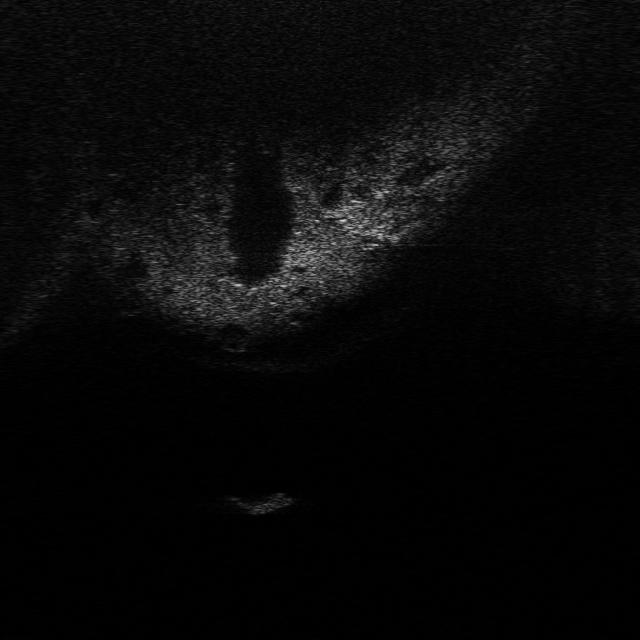cube: (219, 486, 293, 518)
